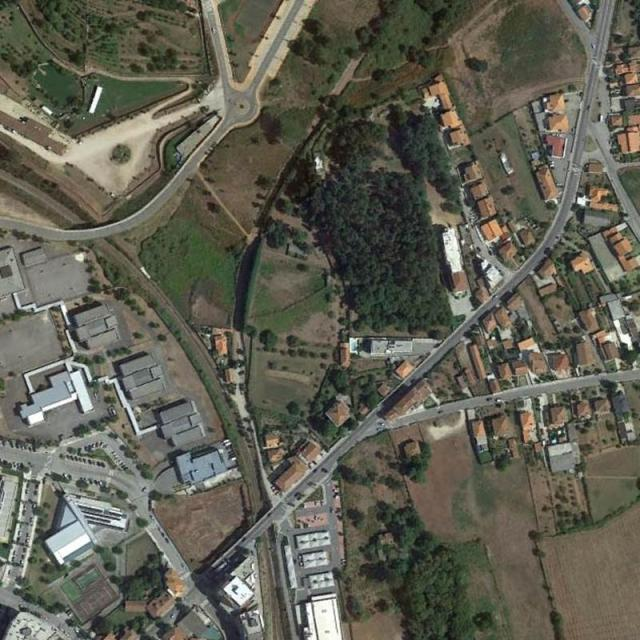vehicle: (139, 266, 150, 280), (322, 467, 329, 474), (142, 487, 148, 494), (486, 396, 492, 402), (87, 459, 93, 465), (64, 473, 69, 480), (98, 482, 105, 487), (78, 447, 82, 455), (230, 457, 238, 461), (379, 422, 386, 426), (101, 461, 105, 468), (66, 454, 70, 461), (497, 398, 502, 403), (24, 488, 28, 494), (110, 452, 116, 456), (97, 461, 101, 467), (75, 456, 79, 462), (79, 457, 83, 463), (225, 443, 231, 447), (96, 442, 99, 449), (223, 440, 230, 443), (83, 458, 87, 463)
